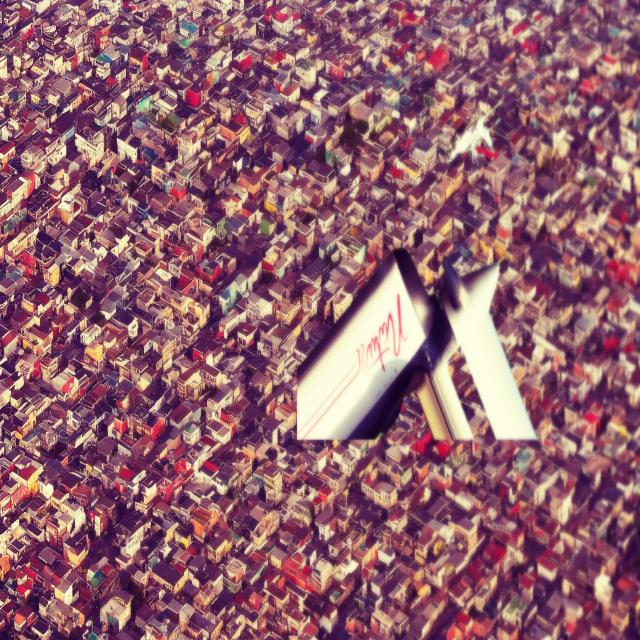airplane: (295, 246, 539, 452), (449, 100, 502, 164)
